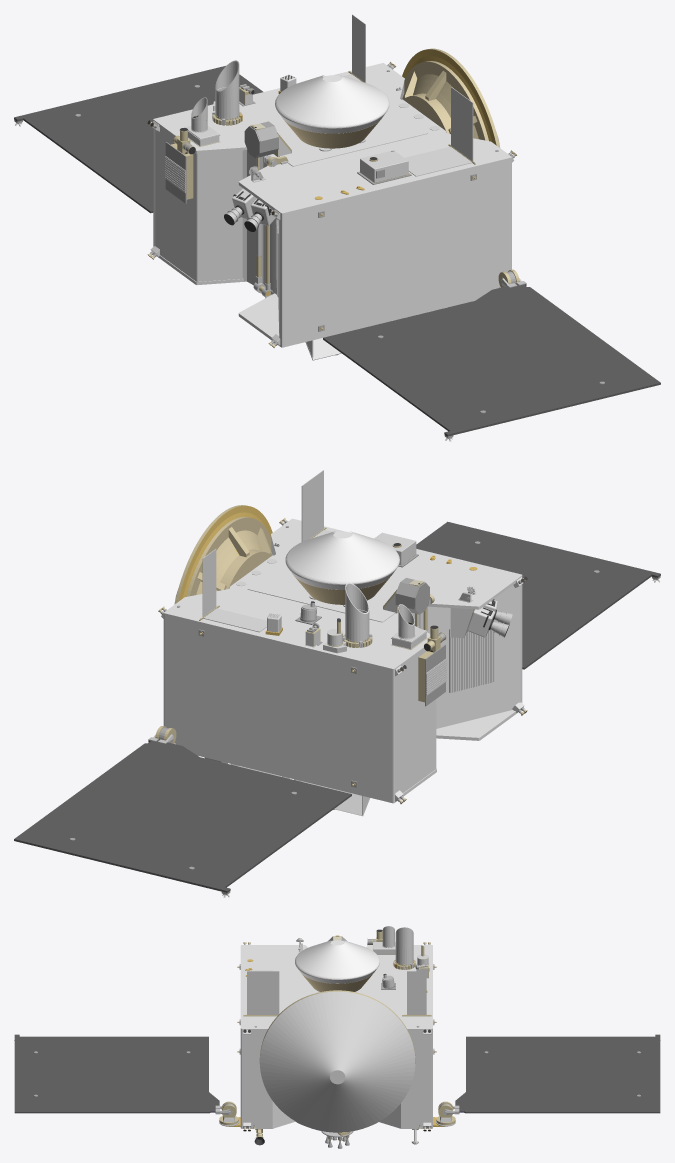
File: osiris_rex.glb
The picture shows the model from 3 angles, top to bottom: view 1: azimuth 30°, elevation 25°; view 2: azimuth 150°, elevation 25°; view 3: azimuth 270°, elevation 25°; orthographic projection. The views are drawn at different scales.
Parts seen in each view (by area): view 1: Main Layer; view 2: Main Layer; view 3: Main Layer.
Part boxes in pixels (bbox=[...]): Main Layer: bbox=[14, 14, 660, 441]; Main Layer: bbox=[14, 470, 660, 897]; Main Layer: bbox=[14, 926, 660, 1148].
Size of the model in its own units: 13.72 by 12.01 by 34.65.
